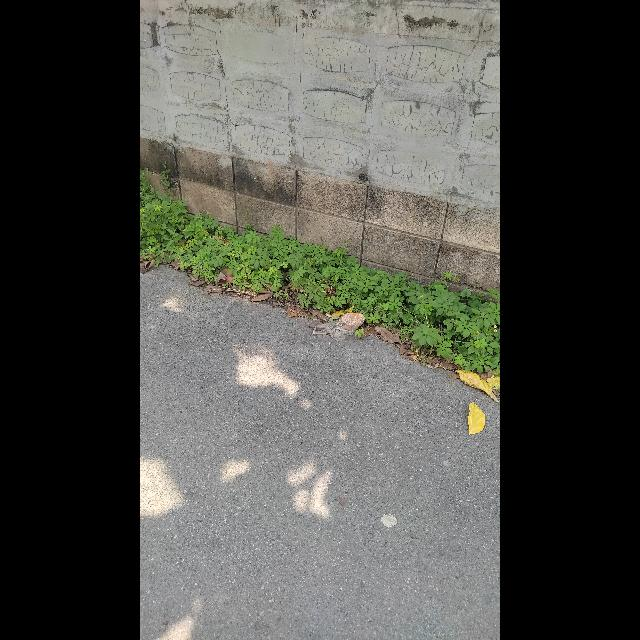plastic_bag: (311, 311, 373, 343)
